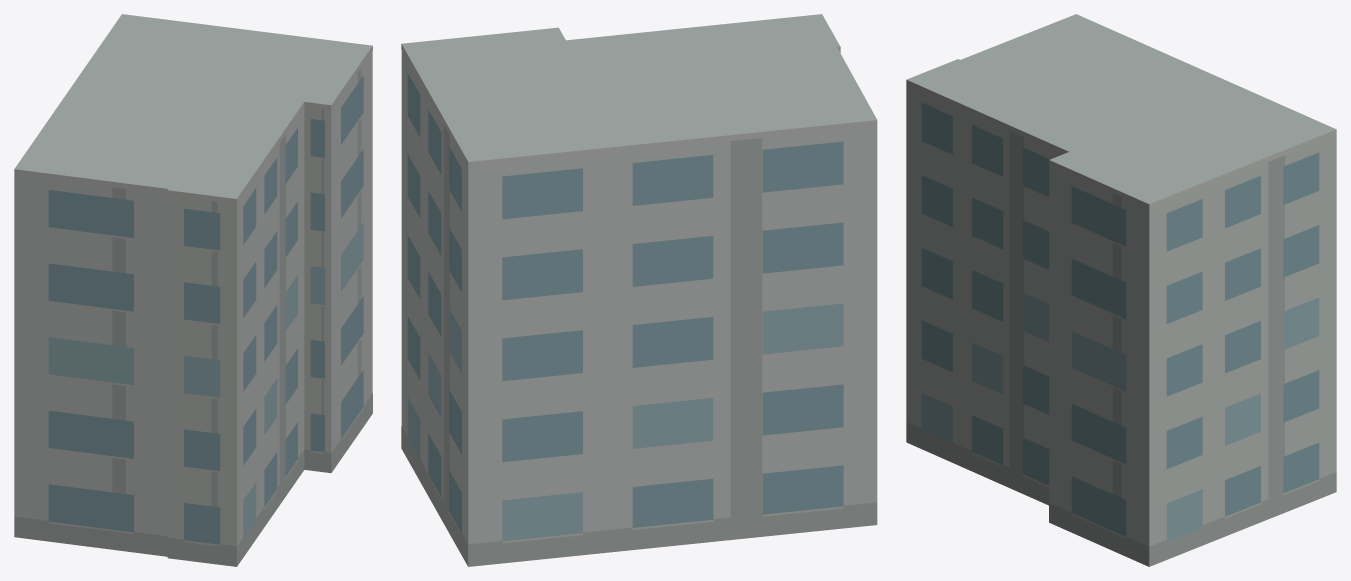
The model's file is survey-upis-32877199.glb.
The picture shows the model from 3 angles, left to right: view 1: azimuth 30°, elevation 25°; view 2: azimuth 150°, elevation 25°; view 3: azimuth 270°, elevation 25°; orthographic projection. The views are drawn at different scales.
Visible parts, largest first — view 1: survey-upis-32877199.tmp; view 2: survey-upis-32877199.tmp; view 3: survey-upis-32877199.tmp.
Part boxes in pixels (x1=…): survey-upis-32877199.tmp: x1=14, y1=14, x2=372, y2=566; survey-upis-32877199.tmp: x1=401, y1=14, x2=877, y2=566; survey-upis-32877199.tmp: x1=906, y1=14, x2=1336, y2=566.
Size of the model in its own units: 18.68 by 16.6 by 17.85.
